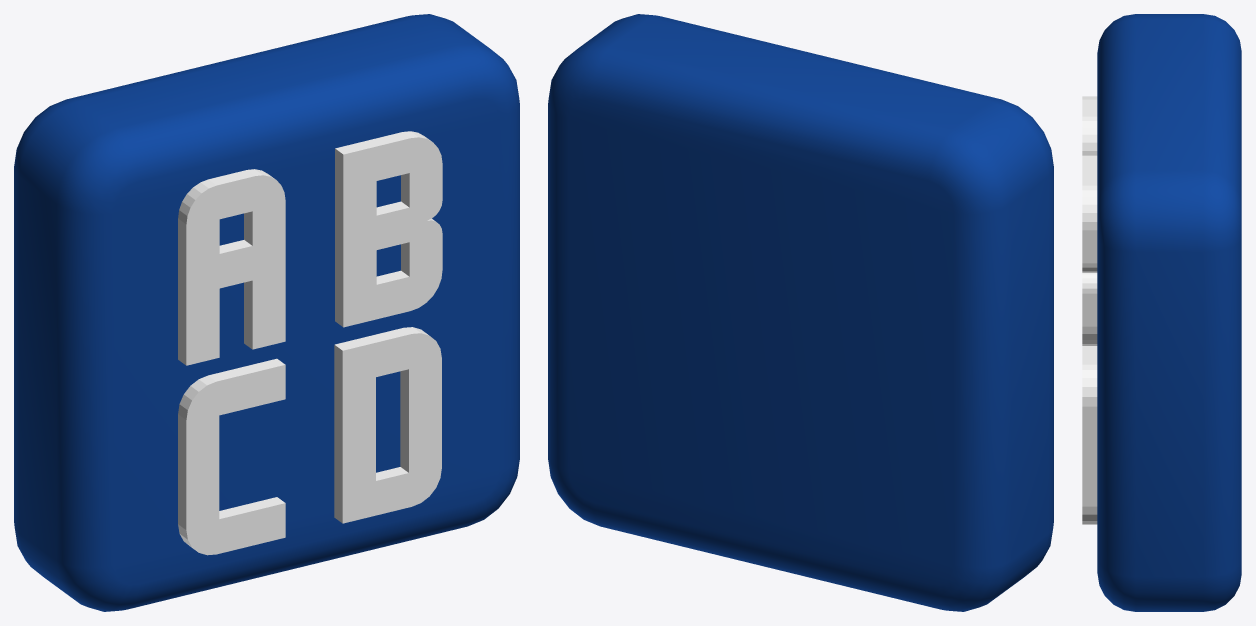
File: input_latin_uppercase.glb
The picture shows the model from 3 angles, left to right: view 1: azimuth 30°, elevation 25°; view 2: azimuth 150°, elevation 25°; view 3: azimuth 270°, elevation 25°; orthographic projection. The views are drawn at different scales.
Parts seen in each view (by area): view 1: Cube.6589; view 2: Cube.6589; view 3: Cube.6589.
Part boxes in pixels (bbox=[...]): Cube.6589: bbox=[14, 14, 519, 611]; Cube.6589: bbox=[548, 14, 1053, 611]; Cube.6589: bbox=[1082, 14, 1241, 611].
Bounding box in the file's own units: 2.2 × 2.2 × 0.73.
1 material, 1 textured.
